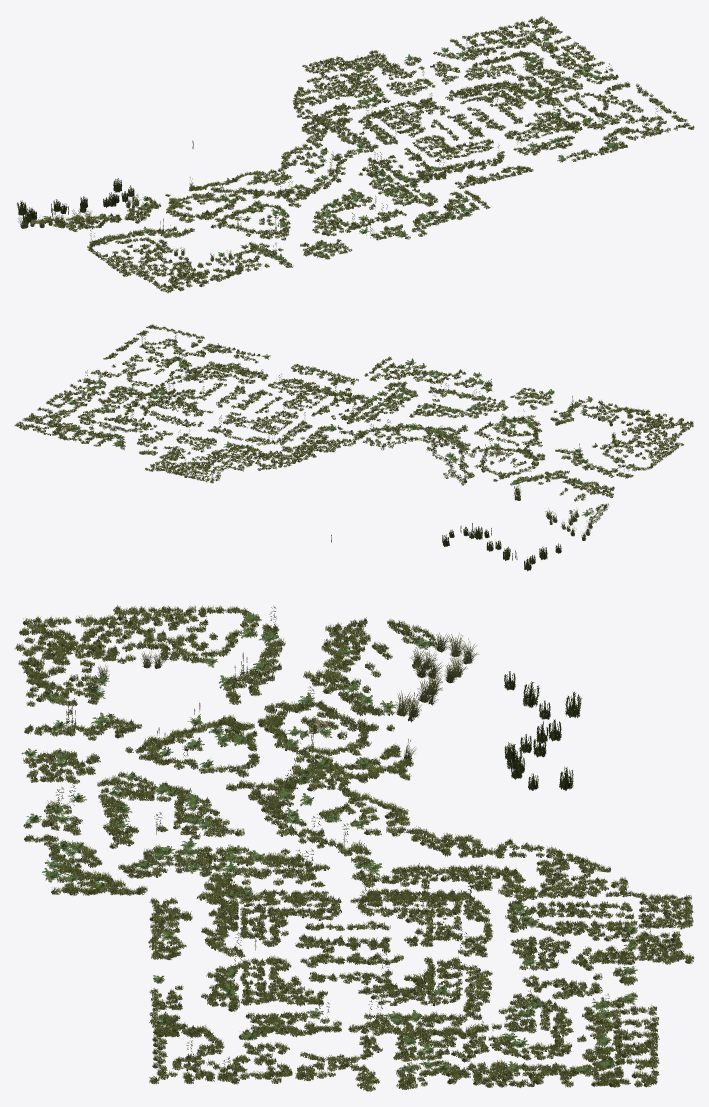
File: Grass_Cemetry.fbx
The picture shows the model from 3 angles, top to bottom: view 1: azimuth 30°, elevation 25°; view 2: azimuth 150°, elevation 25°; view 3: azimuth 270°, elevation 25°; orthographic projection. The views are drawn at different scales.
Bounding box in the file's own units: 10052 × 1063 × 6077.
